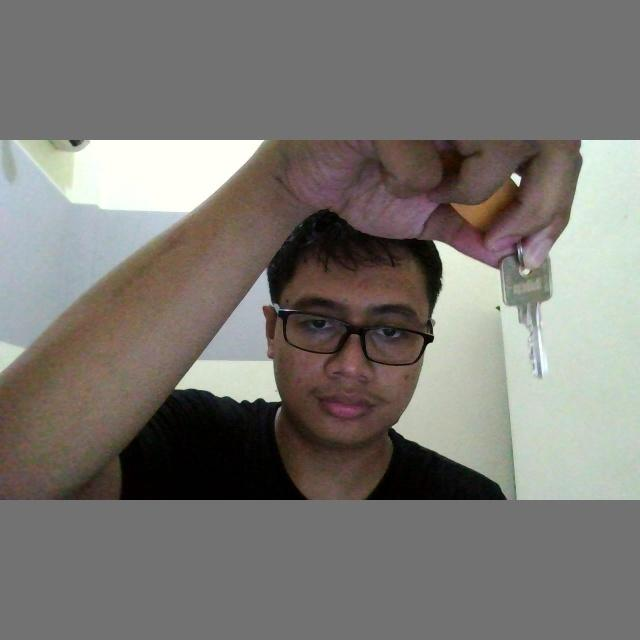Keys: (500, 227, 556, 385)
